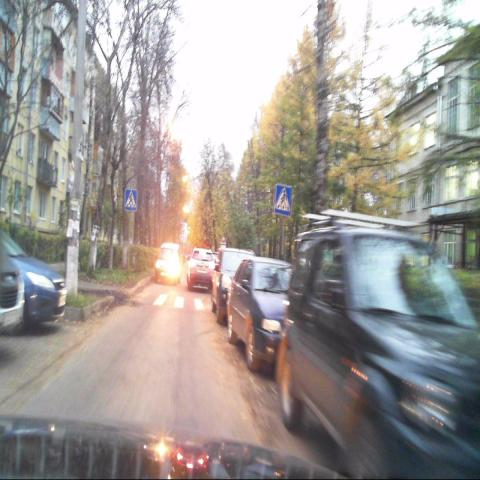5_19_1: (125, 189, 137, 211)
